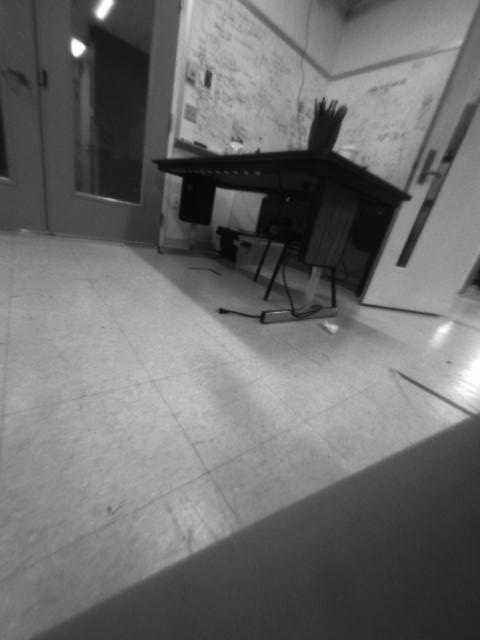door_handle: (1, 63, 32, 87)
